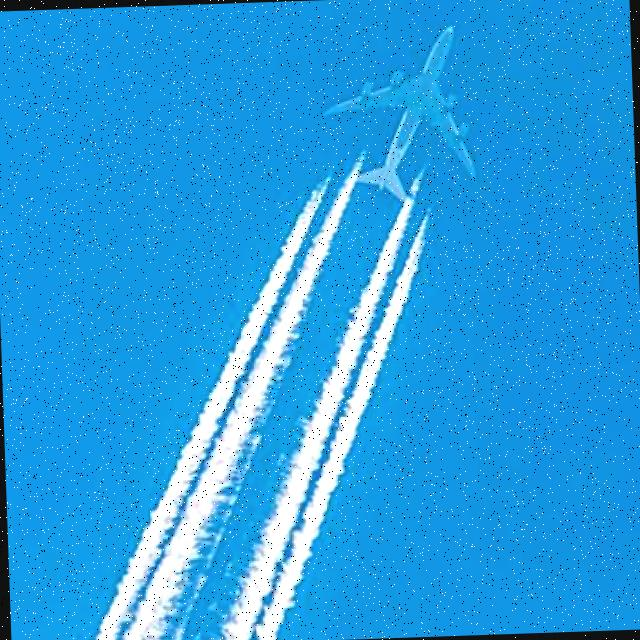Ct: (56, 207, 466, 640)
